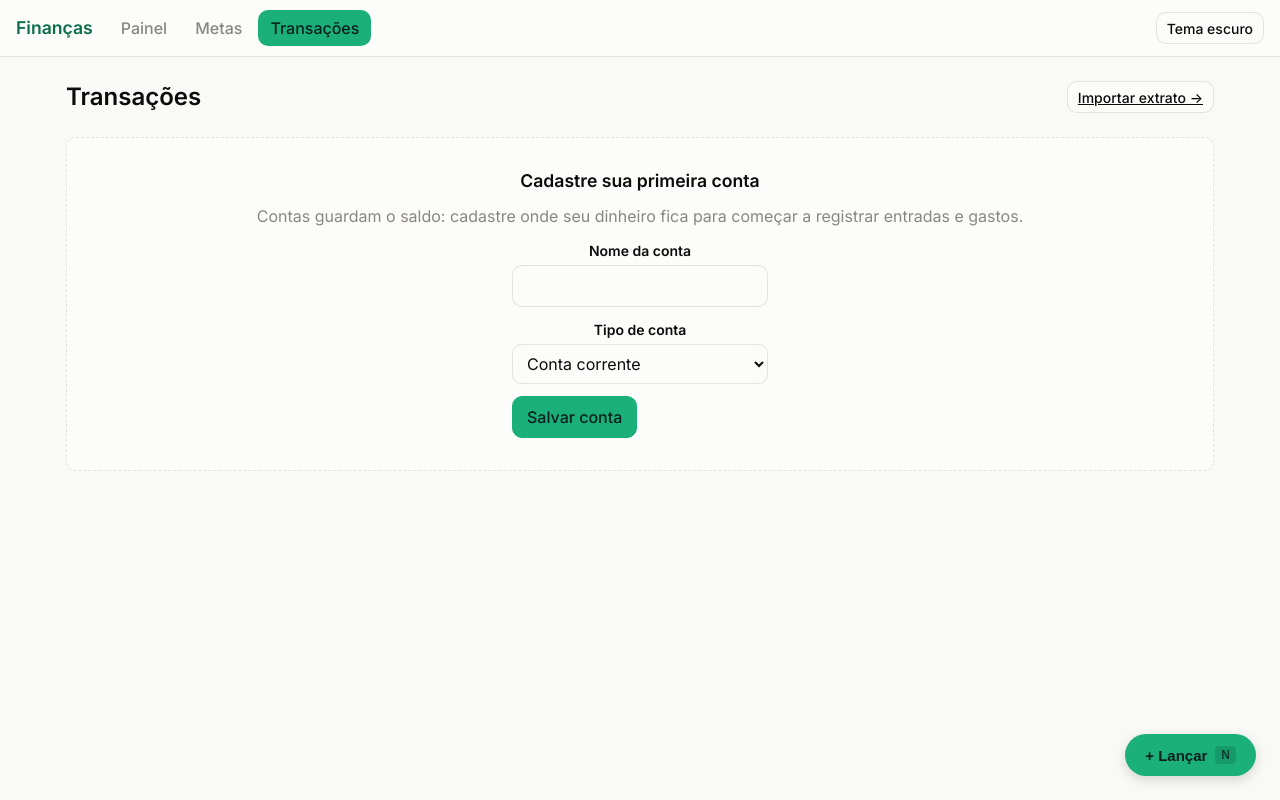
Test case: App › reaches the import page from the link on Transações, without it being in the main nav
Expected: the heading "Transações" is shown, [66,82,201,112]
Click the link "Importar extrato →".
click(1140, 97)  # box [1067,81,1214,113]
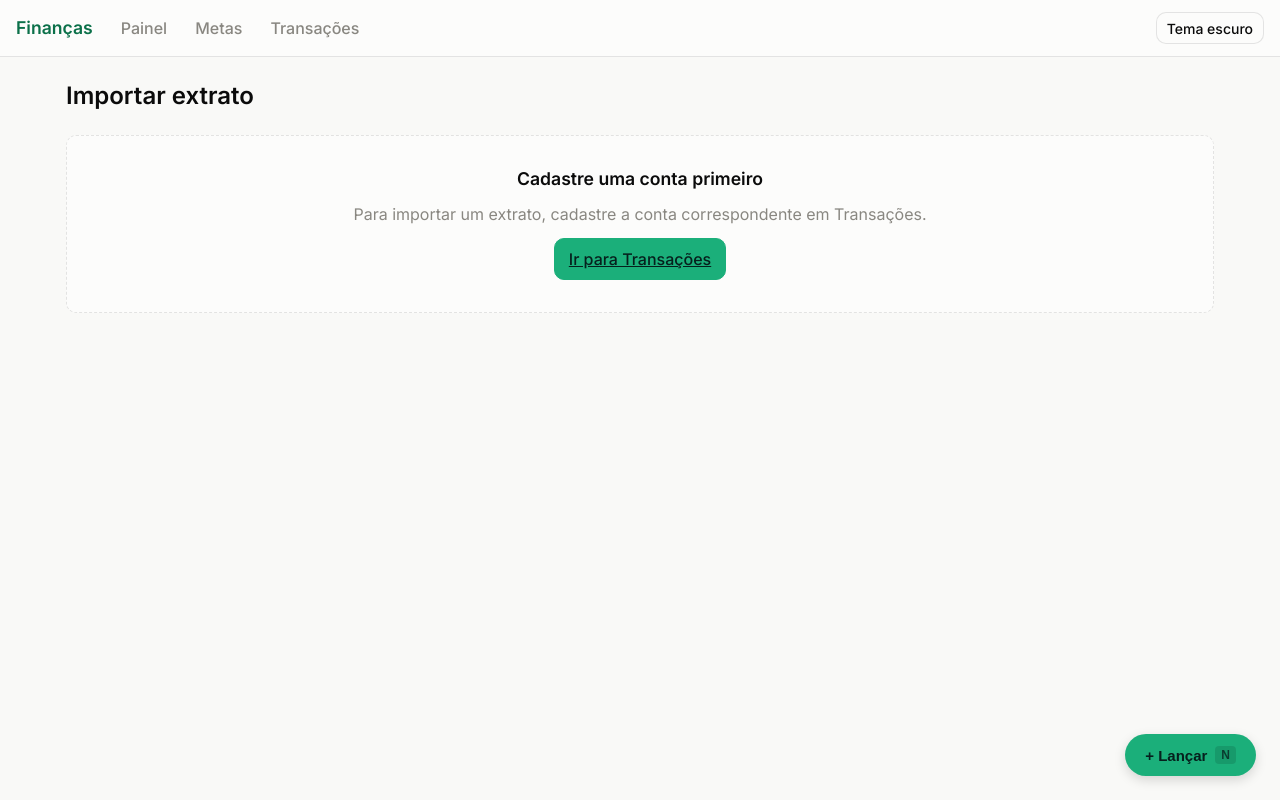
Expected: the heading "Importar extrato" is shown, [66,81,254,111]
